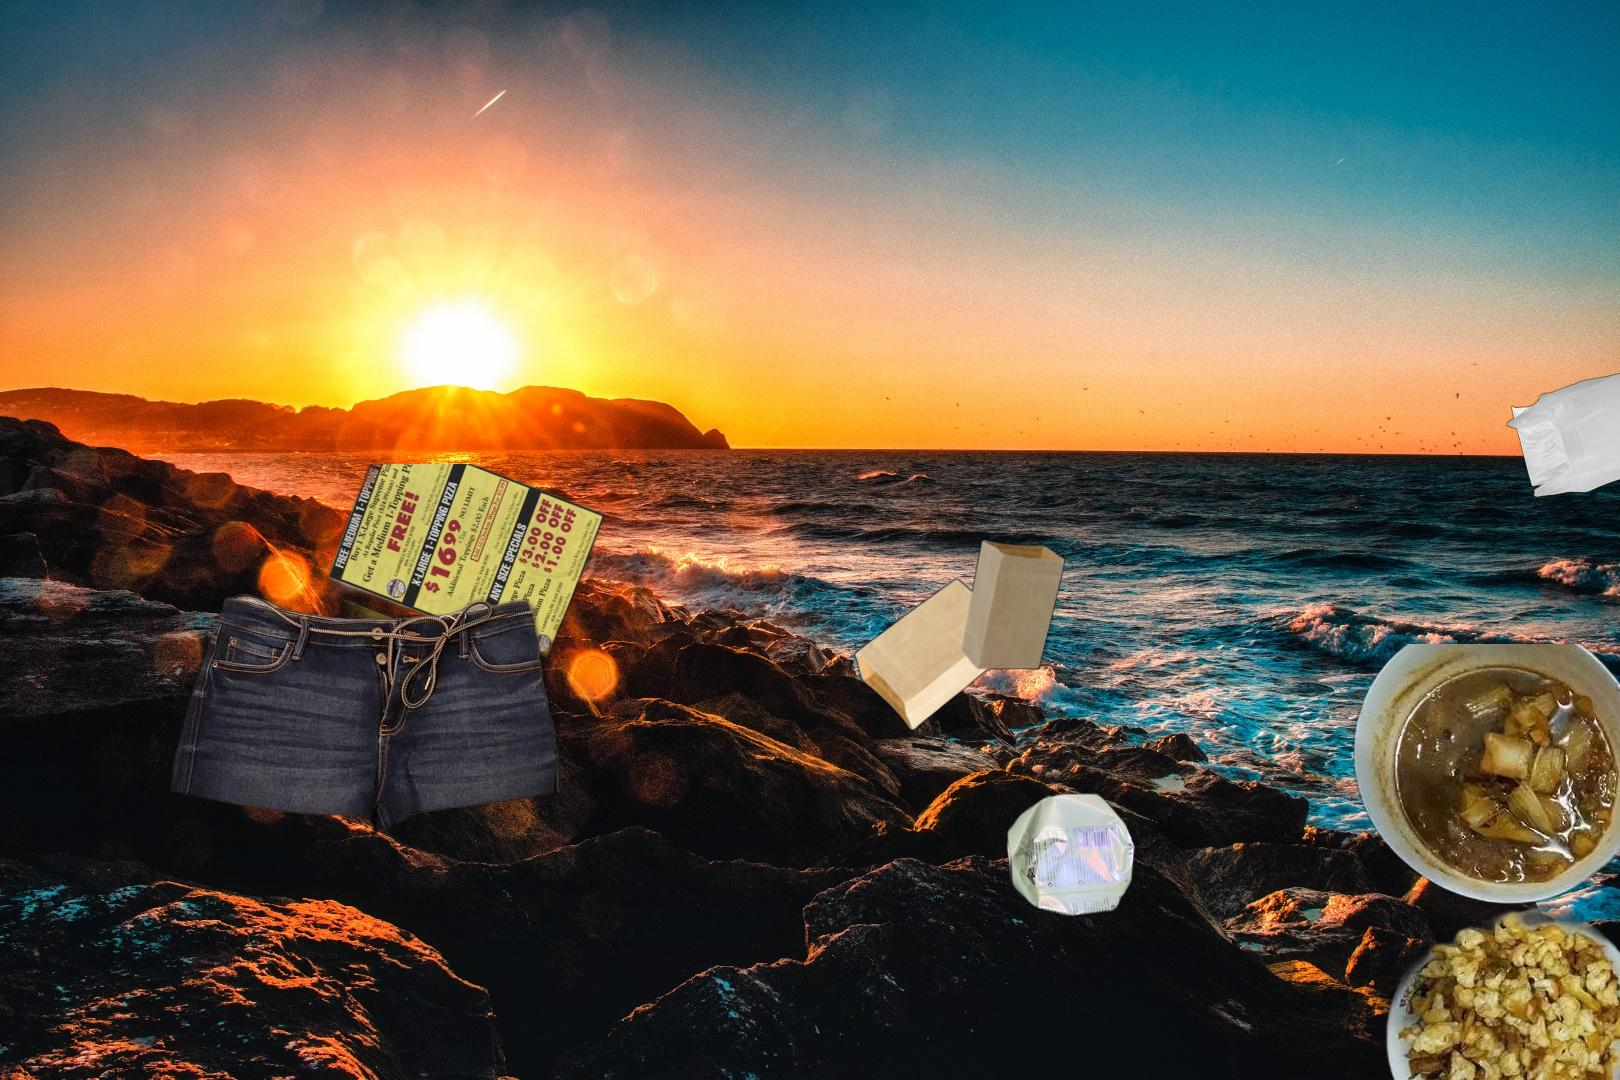biological: (1348, 644, 1620, 1080)
clothes: (166, 590, 567, 885)
metal-cans: (1002, 787, 1139, 922)
paper: (195, 464, 685, 848)
paper-bag: (851, 536, 1068, 734)
plastic-bag: (1504, 364, 1620, 500)
